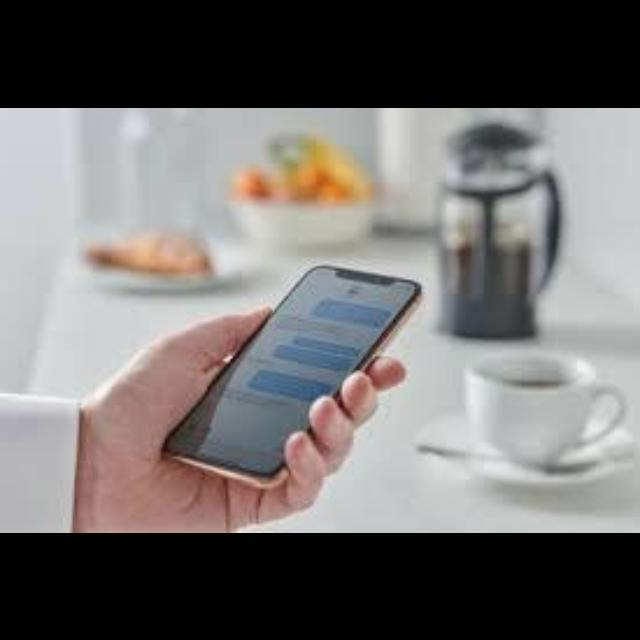phone: (154, 258, 430, 505)
